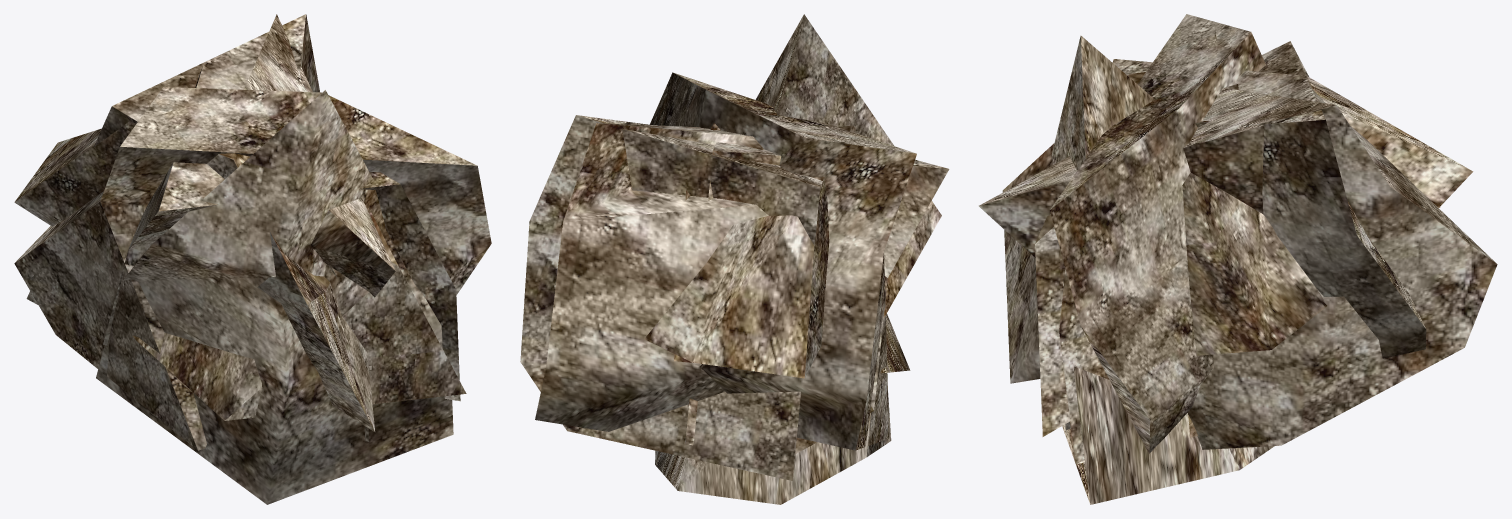
The picture shows the model from 3 angles, left to right: view 1: azimuth 30°, elevation 25°; view 2: azimuth 150°, elevation 25°; view 3: azimuth 270°, elevation 25°; orthographic projection. The views are drawn at different scales.
Parts seen in each view (by area): view 1: 6, 4, 1, 2, 5, 3, 0; view 2: 3, 4, 0, 2, 6, 5, 1; view 3: 3, 4, 2, 0, 6, 1, 5.
Boxes of the visible parts, x1=… form: 6: x1=96, y1=90, x2=453, y2=504; 4: x1=14, y1=87, x2=491, y2=450; 1: x1=132, y1=212, x2=466, y2=420; 2: x1=14, y1=121, x2=375, y2=431; 5: x1=103, y1=65, x2=460, y2=401; 3: x1=244, y1=14, x2=395, y2=297; 0: x1=26, y1=14, x2=369, y2=441; 3: x1=535, y1=123, x2=768, y2=431; 4: x1=650, y1=72, x2=916, y2=450; 0: x1=520, y1=115, x2=822, y2=480; 2: x1=644, y1=125, x2=855, y2=378; 6: x1=655, y1=14, x2=941, y2=504; 5: x1=684, y1=142, x2=949, y2=454; 1: x1=674, y1=123, x2=910, y2=373; 3: x1=979, y1=84, x2=1497, y2=449; 4: x1=1050, y1=14, x2=1265, y2=453; 2: x1=1002, y1=72, x2=1473, y2=383; 0: x1=1065, y1=41, x2=1426, y2=429; 6: x1=1051, y1=35, x2=1274, y2=504; 1: x1=1035, y1=121, x2=1440, y2=436; 5: x1=1059, y1=59, x2=1300, y2=464.
Size of the model in its own units: 143 by 152 by 173.
